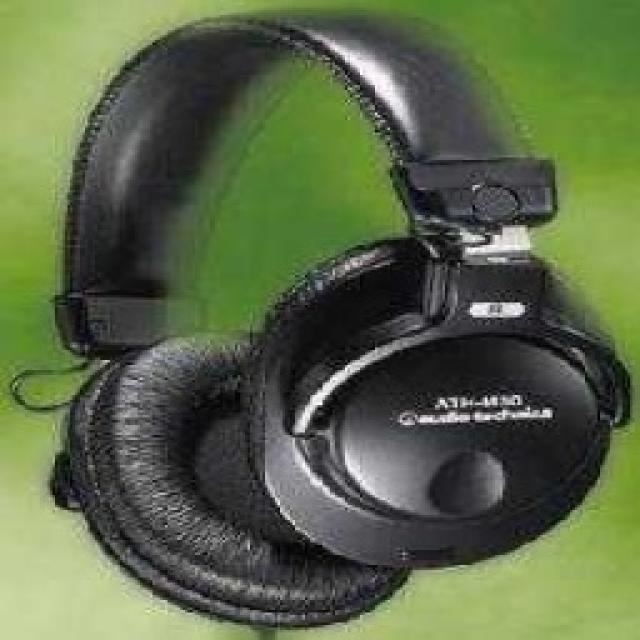kulaklik: (8, 6, 636, 630)
